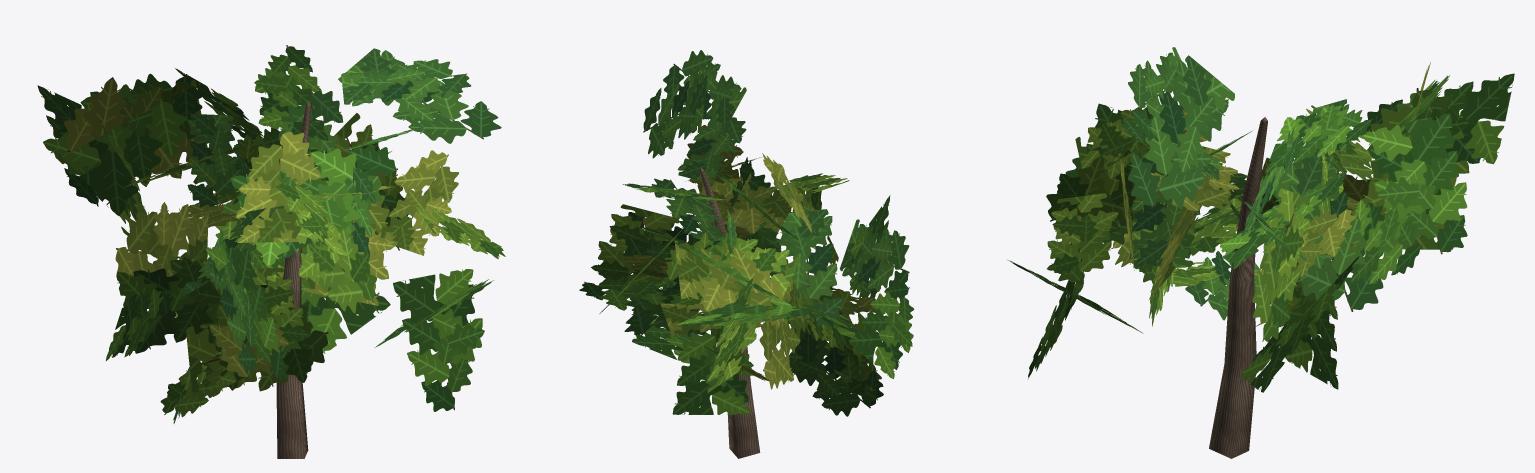
Rendered from hero_oak_a_lod2.obj.
The picture shows the model from 3 angles, left to right: view 1: azimuth 30°, elevation 25°; view 2: azimuth 150°, elevation 25°; view 3: azimuth 270°, elevation 25°; orthographic projection. The views are drawn at different scales.
Parts seen in each view (by area): view 1: hero_oak_a_lod2; view 2: hero_oak_a_lod2; view 3: hero_oak_a_lod2.
Boxes of the visible parts, x1,y1,x2,y2 form: hero_oak_a_lod2: (37, 45, 505, 458); hero_oak_a_lod2: (579, 50, 914, 458); hero_oak_a_lod2: (1008, 47, 1514, 458).
Bounding box in the file's own units: 12.16 × 13.72 × 14.69.
Materials: 2 (2 with a texture image).
